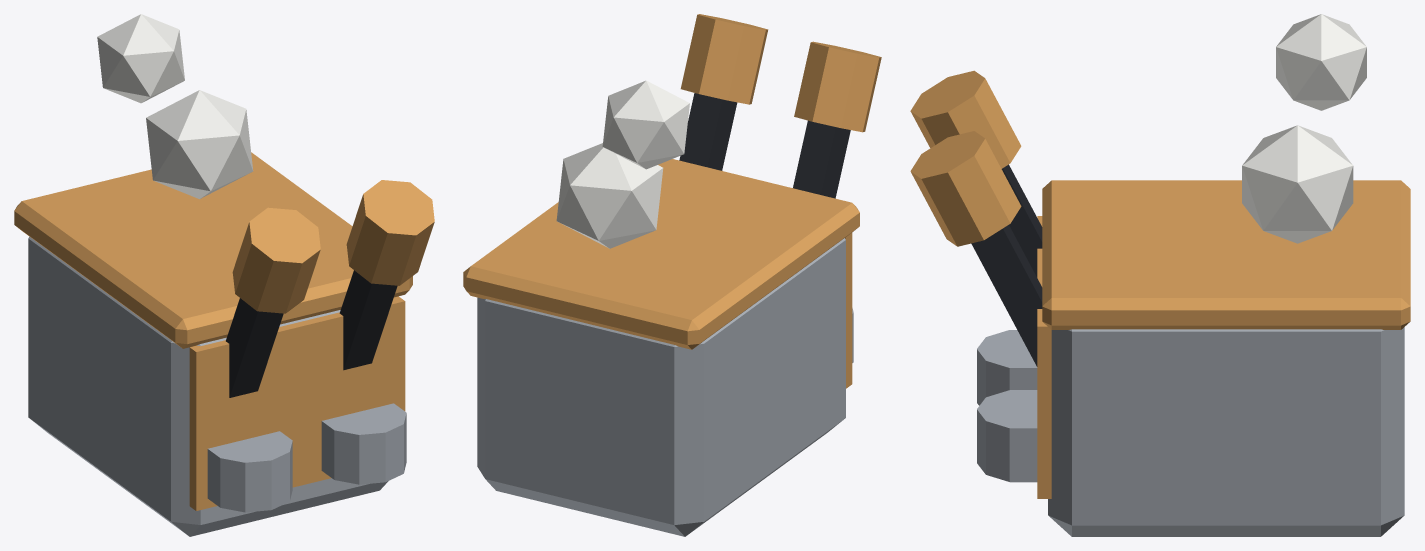
Rendered from coffee_m0_2.glb.
3 views of the same model, side by side, from view 1: azimuth 30°, elevation 25°; view 2: azimuth 150°, elevation 25°; view 3: azimuth 270°, elevation 25° (orthographic). The views are drawn at different scales.
Parts seen in each view (by area): view 1: coffee_m0_2_mesh; view 2: coffee_m0_2_mesh; view 3: coffee_m0_2_mesh.
Part boxes in pixels (x1,y1,x2,y2): coffee_m0_2_mesh: [14, 14, 434, 536]; coffee_m0_2_mesh: [463, 14, 881, 536]; coffee_m0_2_mesh: [910, 14, 1410, 536].
Bounding box in the file's own units: 0.25 × 0.425 × 0.4209.
